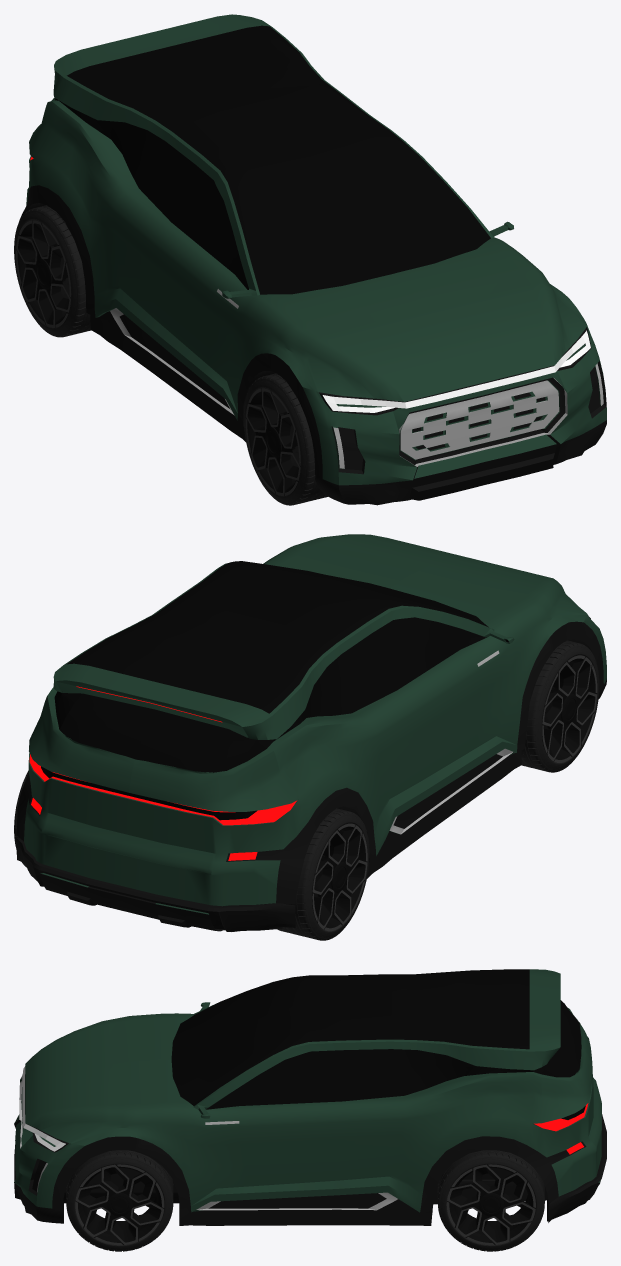
The model's file is suv-eletrico.glb.
3 views of the same model, one above another, from view 1: azimuth 30°, elevation 25°; view 2: azimuth 150°, elevation 25°; view 3: azimuth 270°, elevation 25° (orthographic). The views are drawn at different scales.
Visible parts, largest first — view 1: Plane_7, Shape_IndexedFaceSet.003_3, Shape_IndexedFaceSet.002_2; view 2: Plane_7, Shape_IndexedFaceSet.003_3, Shape_IndexedFaceSet.002_2; view 3: Plane_7, Shape_IndexedFaceSet_0, Shape_IndexedFaceSet.001_1.
Boxes of the visible parts, x1,y1,x2,y2 form: Plane_7: (19, 14, 606, 505); Shape_IndexedFaceSet.003_3: (14, 205, 90, 337); Shape_IndexedFaceSet.002_2: (243, 373, 327, 505); Plane_7: (16, 534, 606, 931); Shape_IndexedFaceSet.003_3: (277, 808, 369, 940); Shape_IndexedFaceSet.002_2: (521, 640, 599, 772); Plane_7: (14, 969, 606, 1225); Shape_IndexedFaceSet_0: (66, 1150, 173, 1251); Shape_IndexedFaceSet.001_1: (437, 1150, 544, 1251).
Bounding box in the file's own units: 2.17 × 1.65 × 4.62.
